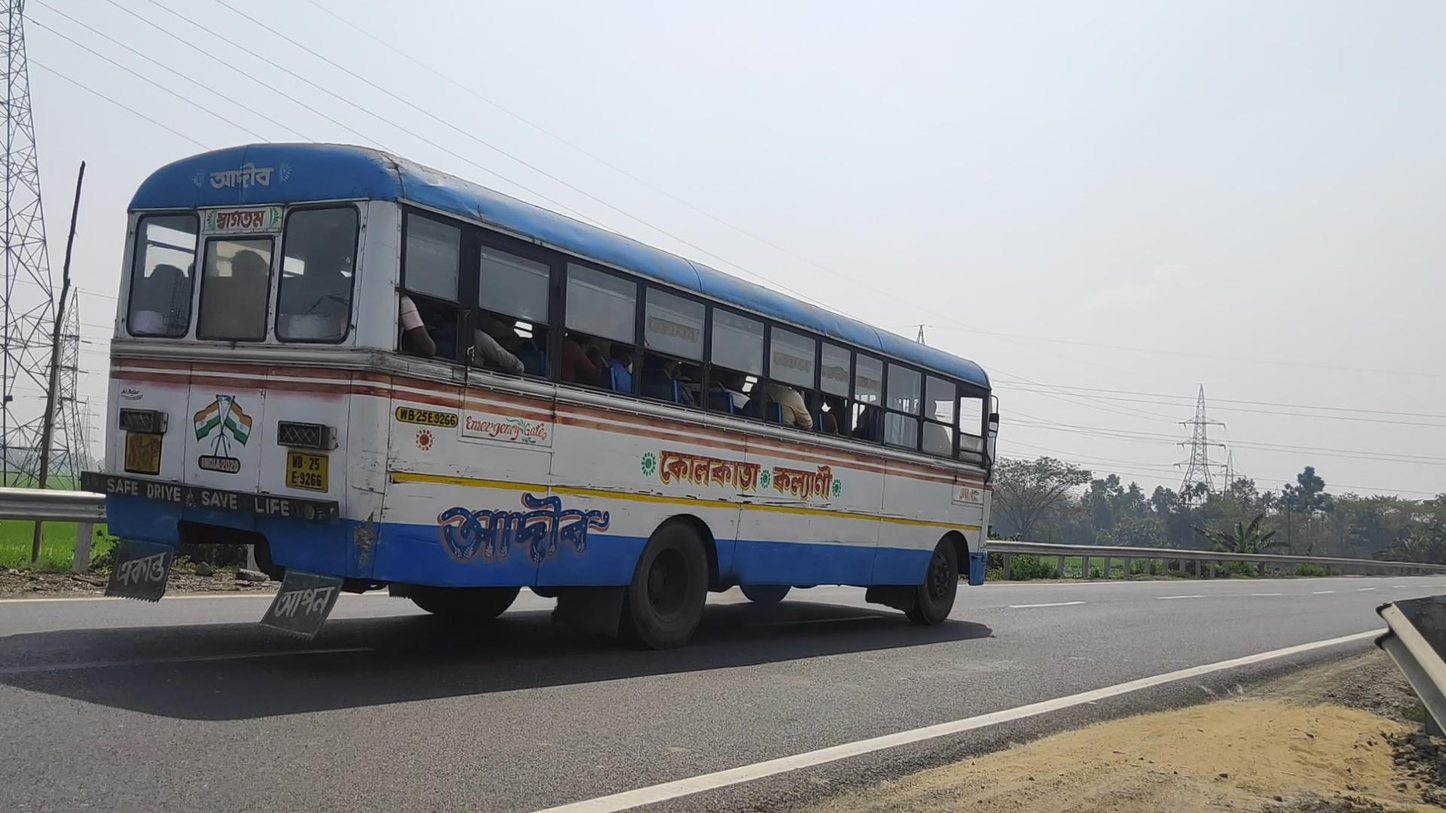Bus: (80, 141, 1001, 649)
